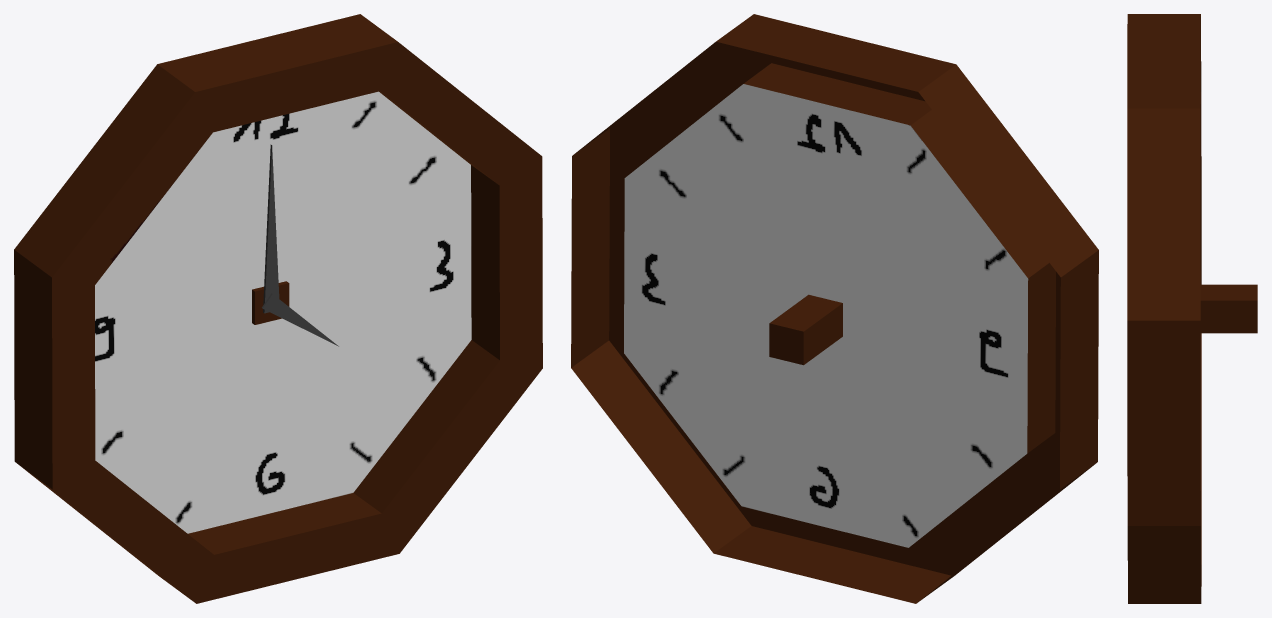
The model's file is Uhr.FBX.
3 views of the same model, side by side, from view 1: azimuth 30°, elevation 25°; view 2: azimuth 150°, elevation 25°; view 3: azimuth 270°, elevation 25° (orthographic). The views are drawn at different scales.
Parts seen in each view (by area): view 1: Uhr, GrZeiger; view 2: Uhr; view 3: Uhr.
Boxes of the visible parts, bbox=[...] form: Uhr: bbox=[14, 14, 542, 603]; GrZeiger: bbox=[263, 144, 279, 313]; Uhr: bbox=[571, 14, 1098, 603]; Uhr: bbox=[1127, 14, 1257, 603].
Bounding box in the file's own units: 23.64 × 23.64 × 5.65.
